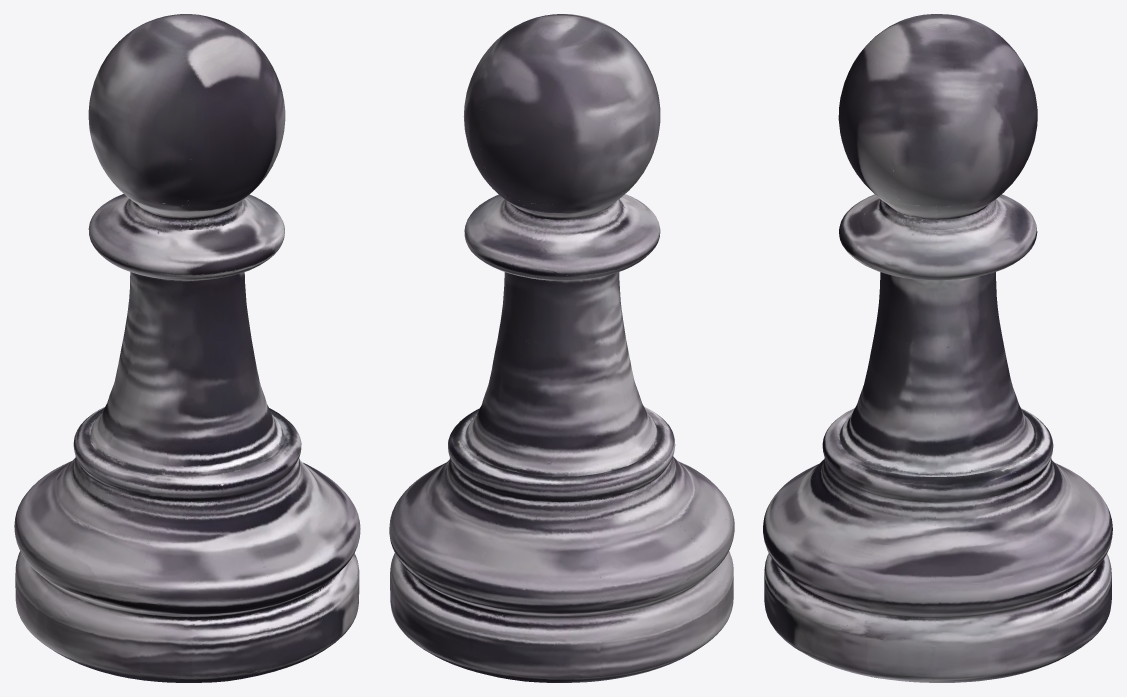
File: pawn.glb
The picture shows the model from 3 angles, left to right: view 1: azimuth 30°, elevation 25°; view 2: azimuth 150°, elevation 25°; view 3: azimuth 270°, elevation 25°; orthographic projection.
Parts seen in each view (by area): view 1: pawn; view 2: pawn; view 3: pawn.
Boxes of the visible parts, left/top/right/bottom form: pawn: left=14, top=14, right=360, bottom=682; pawn: left=389, top=14, right=734, bottom=682; pawn: left=763, top=14, right=1112, bottom=682.
Size of the model in its own units: 0.2065 by 0.3943 by 0.2102.
1 material, 1 textured.
